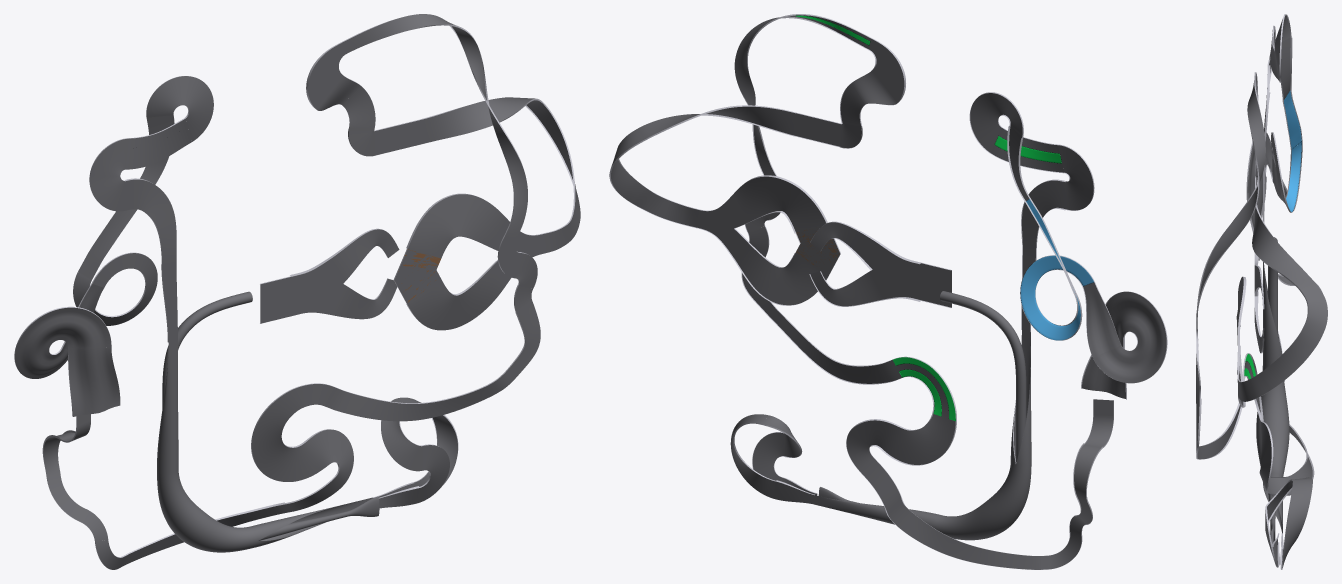
Rendered from track.obj.
The picture shows the model from 3 angles, left to right: view 1: azimuth 30°, elevation 25°; view 2: azimuth 150°, elevation 25°; view 3: azimuth 270°, elevation 25°; orthographic projection. The views are drawn at different scales.
Parts seen in each view (by area): view 1: FZGXStream30.000_PreviewMesh, FZGXStream18.000_PreviewMesh, FZGXStream16.000_PreviewMesh, FZGXStream39.000_PreviewMesh, FZGXStream24.000_PreviewMesh, FZGXStream1.000_PreviewMesh, FZGXStream17.000_PreviewMesh, FZGXStream29.000_PreviewMesh, FZGXStream38.000_PreviewMesh, FZGXStream13.000_PreviewMesh, FZGXStream12.000_PreviewMesh, FZGXStream44.000_PreviewMesh (+25 smaller); view 2: FZGXStream30.000_PreviewMesh, FZGXStream18.000_PreviewMesh, FZGXStream39.000_PreviewMesh, FZGXStream16.000_PreviewMesh, FZGXStream17.000_PreviewMesh, FZGXStream1.000_PreviewMesh, FZGXStream31.000_PreviewMesh, FZGXStream12.000_PreviewMesh, FZGXStream13.000_PreviewMesh, FZGXStream41.000_PreviewMesh, FZGXStream24.000_PreviewMesh, FZGXStream29.000_PreviewMesh (+21 smaller); view 3: FZGXStream18.000_PreviewMesh, FZGXStream24.000_PreviewMesh, FZGXStream1.000_PreviewMesh, FZGXStream30.000_PreviewMesh, FZGXStream4.000_PreviewMesh, FZGXStream41.000_PreviewMesh, FZGXStream0.000_PreviewMesh, FZGXStream29.000_PreviewMesh, FZGXStream42.000_PreviewMesh, FZGXStream39.000_PreviewMesh, FZGXStream43.000_PreviewMesh, FZGXStream31.000_PreviewMesh (+13 smaller).
Boxes of the visible parts, x1,y1,x2,y2 form: FZGXStream30.000_PreviewMesh: [251, 383, 353, 511]; FZGXStream18.000_PreviewMesh: [421, 97, 580, 253]; FZGXStream16.000_PreviewMesh: [406, 193, 542, 258]; FZGXStream39.000_PreviewMesh: [14, 306, 111, 378]; FZGXStream24.000_PreviewMesh: [342, 14, 527, 240]; FZGXStream1.000_PreviewMesh: [157, 470, 257, 552]; FZGXStream17.000_PreviewMesh: [406, 236, 542, 330]; FZGXStream29.000_PreviewMesh: [325, 372, 512, 421]; FZGXStream38.000_PreviewMesh: [68, 347, 120, 416]; FZGXStream13.000_PreviewMesh: [290, 228, 399, 315]; FZGXStream12.000_PreviewMesh: [291, 274, 397, 319]; FZGXStream44.000_PreviewMesh: [146, 76, 213, 141]; FZGXStream30.000_PreviewMesh: [846, 356, 956, 510]; FZGXStream18.000_PreviewMesh: [609, 105, 797, 228]; FZGXStream39.000_PreviewMesh: [1093, 291, 1167, 383]; FZGXStream16.000_PreviewMesh: [699, 175, 827, 233]; FZGXStream17.000_PreviewMesh: [699, 210, 827, 305]; FZGXStream1.000_PreviewMesh: [935, 456, 1031, 540]; FZGXStream31.000_PreviewMesh: [886, 498, 1048, 569]; FZGXStream12.000_PreviewMesh: [809, 260, 921, 306]; FZGXStream13.000_PreviewMesh: [810, 221, 921, 300]; FZGXStream41.000_PreviewMesh: [1020, 255, 1094, 340]; FZGXStream24.000_PreviewMesh: [734, 14, 872, 176]; FZGXStream29.000_PreviewMesh: [770, 310, 901, 384]; FZGXStream18.000_PreviewMesh: [1237, 204, 1327, 401]; FZGXStream24.000_PreviewMesh: [1196, 74, 1265, 329]; FZGXStream1.000_PreviewMesh: [1256, 363, 1289, 486]; FZGXStream30.000_PreviewMesh: [1243, 353, 1282, 494]; FZGXStream4.000_PreviewMesh: [1280, 480, 1312, 569]; FZGXStream41.000_PreviewMesh: [1271, 132, 1302, 212]; FZGXStream0.000_PreviewMesh: [1263, 262, 1282, 365]; FZGXStream29.000_PreviewMesh: [1196, 379, 1244, 459]; FZGXStream42.000_PreviewMesh: [1283, 90, 1302, 150]; FZGXStream39.000_PreviewMesh: [1246, 133, 1284, 202]; FZGXStream43.000_PreviewMesh: [1281, 37, 1292, 102]; FZGXStream31.000_PreviewMesh: [1279, 424, 1314, 495].
Bounding box in the file's own units: 3599 × 3059 × 791.
